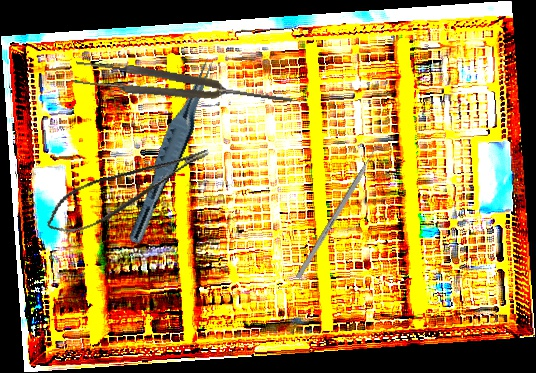Micro Scissor: (37, 143, 220, 242)
Pusher: (295, 138, 384, 280)
Tissue Forceps: (126, 53, 220, 249), (72, 57, 294, 116)
